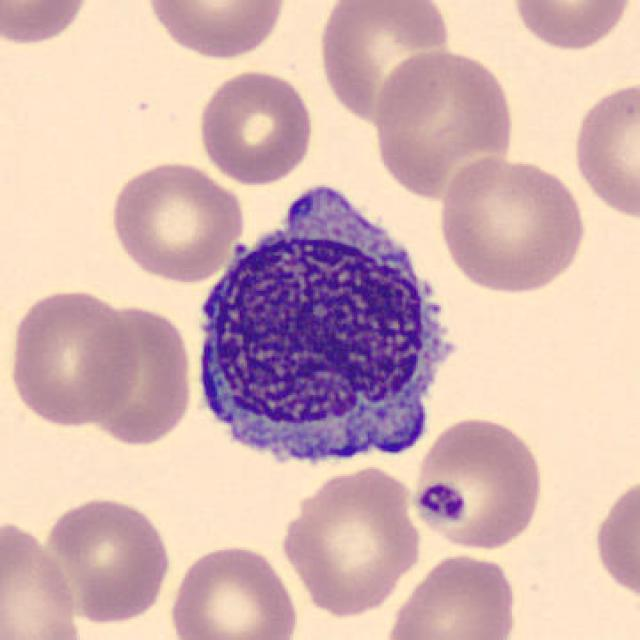Monocyte: (185, 173, 473, 481)
Platelets: (413, 480, 471, 526)
RBC: (370, 44, 517, 201), (277, 462, 423, 619), (434, 152, 588, 296), (407, 412, 548, 554), (6, 284, 142, 430), (78, 298, 198, 450), (316, 0, 457, 127), (41, 492, 174, 626), (107, 157, 247, 284), (194, 67, 316, 187), (165, 539, 302, 640), (380, 550, 522, 640), (0, 513, 84, 640), (569, 76, 640, 224), (140, 0, 290, 62), (508, 0, 636, 53), (590, 467, 638, 608), (0, 0, 96, 48)
